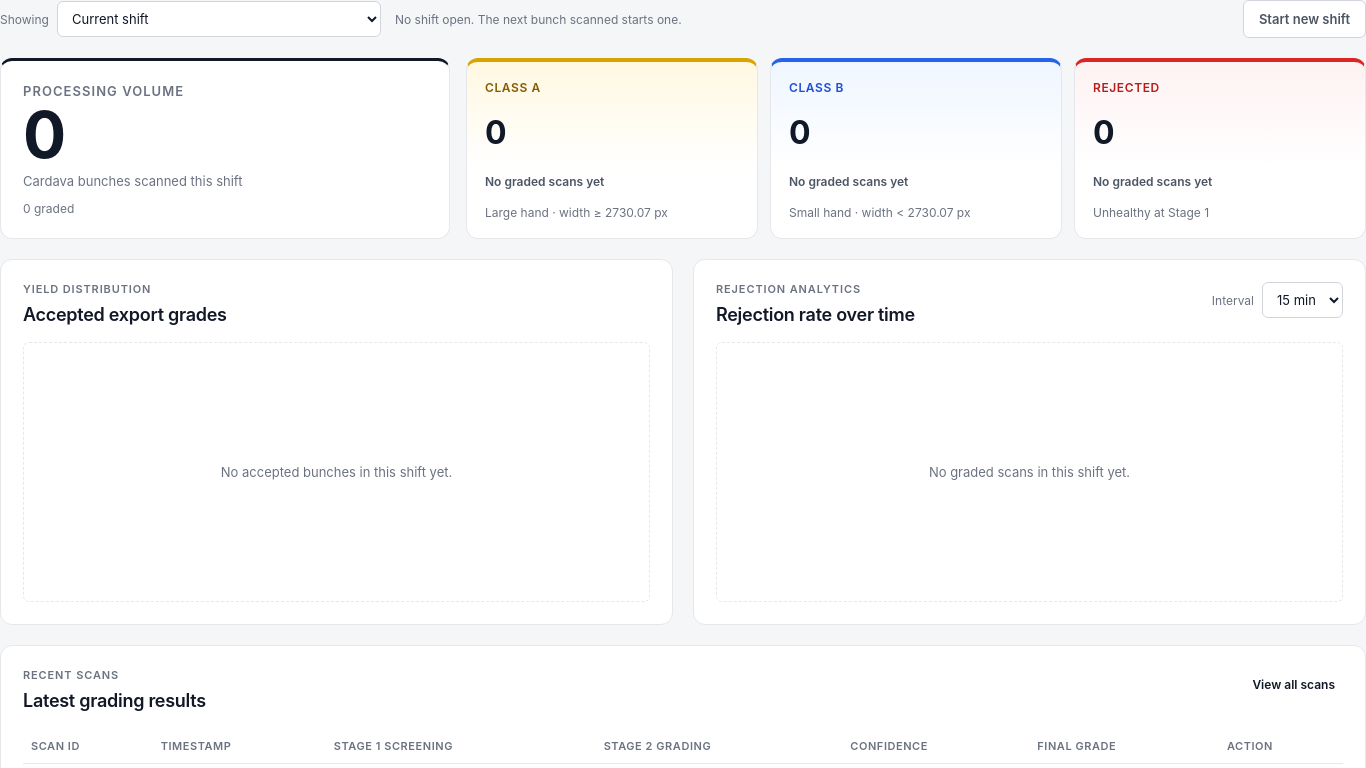
views › Dashboard says when no shift is open and offers only Start new shift
Expected: the text with class "shift-meta" reads "No shift open. The next bunch scanned starts one.", [395,12,682,26]
Click the button "Start new shift" at [1304, 19], box [1243,0,1365,38]
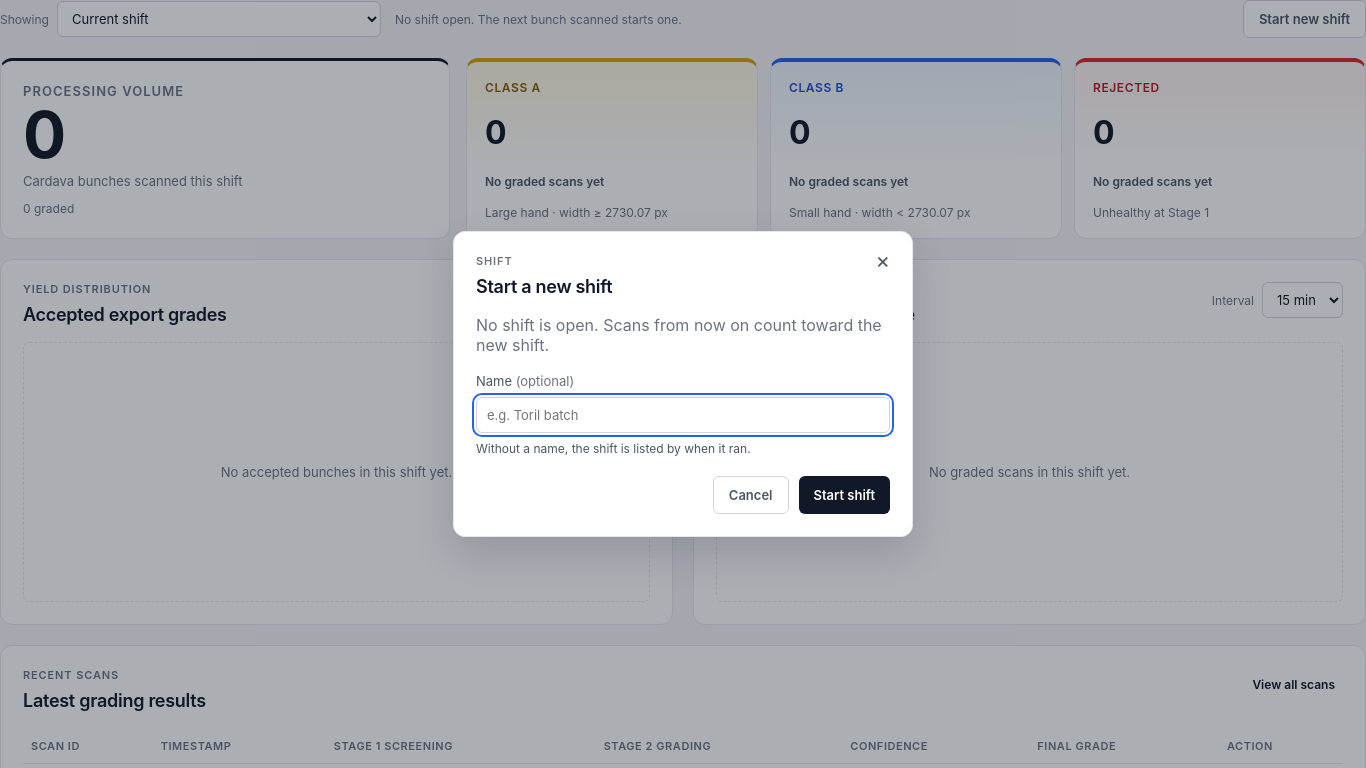
Expected: the dialog shows "No shift is open.", [476,315,882,355]
